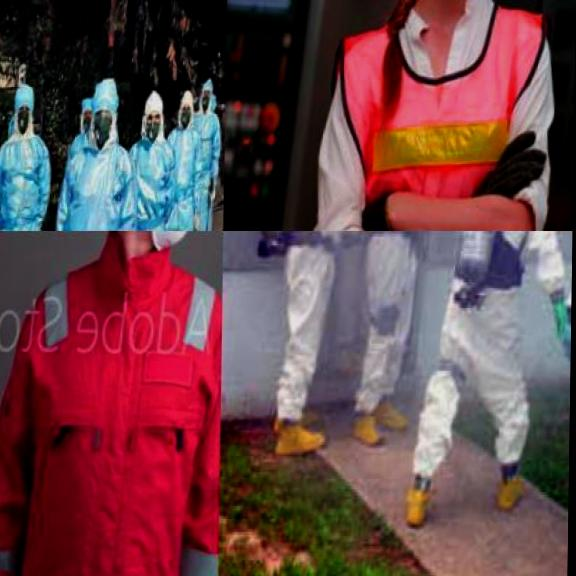safety_vest: (0, 239, 223, 576), (323, 0, 556, 230), (430, 231, 554, 412), (264, 231, 364, 405), (355, 230, 439, 376), (42, 144, 144, 230), (118, 136, 185, 230), (155, 124, 211, 230), (0, 132, 60, 229), (182, 114, 225, 230)
